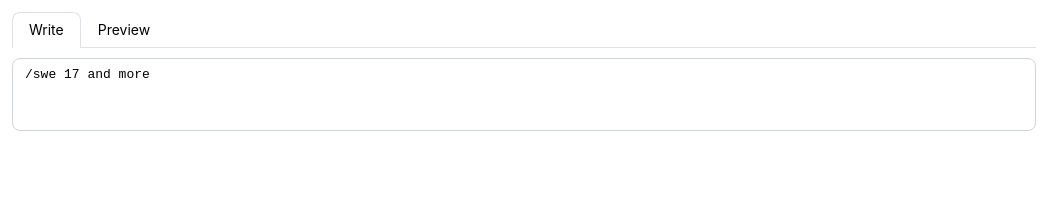
Test: MarkdownEditor skill completion › accepts with a click, and replaces the whole first token and keeps the rest
Step 1. Click the text box → (524,94), box [12,58,1036,131]
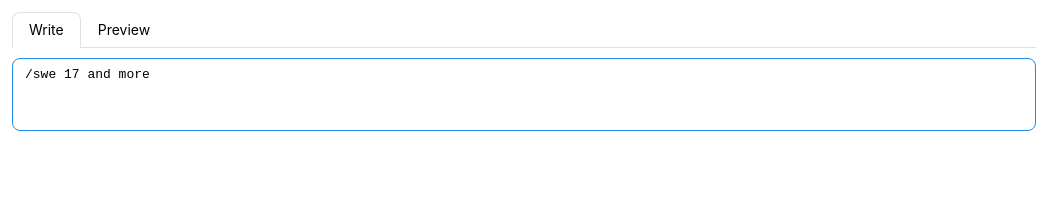
Step 2. Press Home Arrowright Arrowright {ArrowRigh
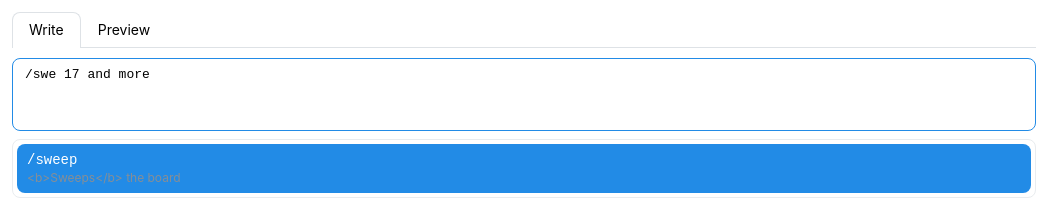
Step 3. Click the option "/sweep <b>Sweeps</b> the board" → (56,160), box [17,144,1031,193]
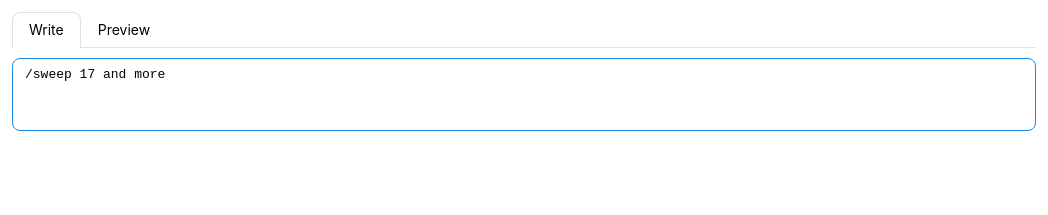
Expected: the text box holds "/sweep 17 and more", [12,58,1036,131]
